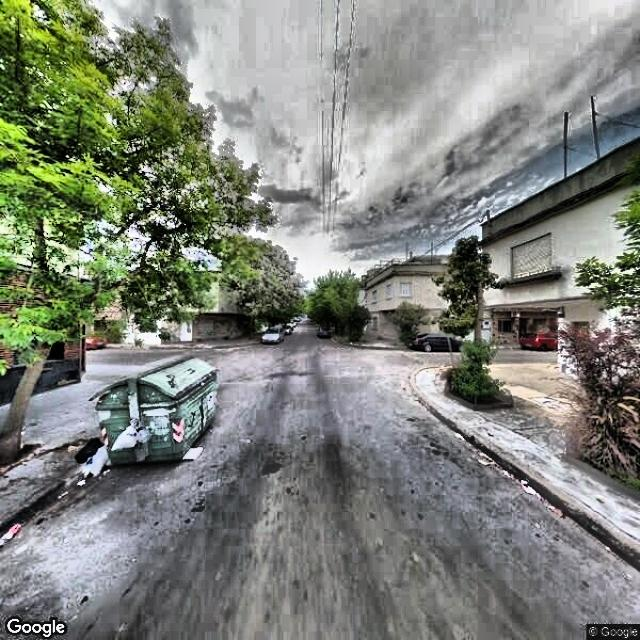garbage: (74, 434, 114, 481)
